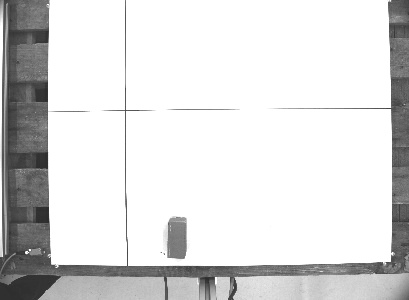b3: (164, 214, 190, 260)
